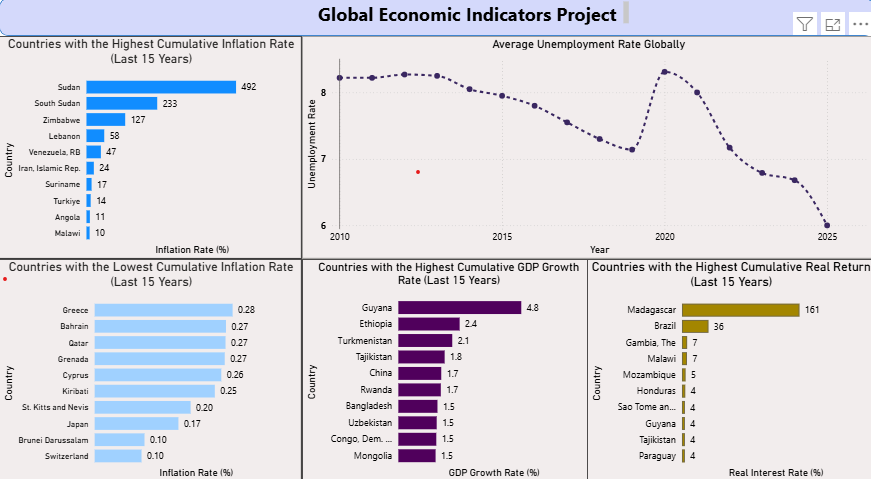

The dashboard page shown, as its layout file describes it:
{"tool":"powerbi","page":{"name":"Dashboard","canvas":[1280,720],"ordinal":0},"visuals":[{"type":"shape","box":[0,11.7,1280.5,55.6],"z":500},{"type":"clusteredBarChart","title":"Countries with the Highest Cumulative Inflation Rate (Last 15 Years)","fields":{"Category":["Q1-1.country_name"],"Y":["Sum(Q1-1.Highest_inflation_Countries)"]},"box":[0,67.3,443.4,326.3],"z":1000},{"type":"textbox","box":[453.7,11.7,472.7,43.9],"z":2000},{"type":"barChart","title":"Countries with the Lowest Cumulative Inflation Rate (Last 15 Years)","fields":{"Category":["Q1-2.country_name"],"Y":["Sum(Q1-2.Lowest_inflation_Countries)"]},"box":[0,393.7,443.4,326.3],"z":3000},{"type":"lineChart","title":"Average Unemployment Rate Globally","fields":{"Category":["Q4-1.year"],"Y":["Sum(Q4-1.Average_Unemployment_Rate_Globally)"]},"box":[443.4,67.3,837.1,326.3],"z":4000},{"type":"clusteredBarChart","title":"Countries with the  Highest Cumulative  GDP Growth Rate (Last 15 Years)","fields":{"Category":["Q2-1.country_name"],"Y":["Sum(Q2-1.Highest_GDP_Growth_Countries)"]},"box":[443.4,393.7,427.3,326.3],"z":5000},{"type":"clusteredBarChart","title":"Countries with the Highest Cumulative Real Return (Last 15 Years)","fields":{"Category":["Q5-1.country_name"],"Y":["Sum(Q5-1.Highest_Cumulative_Real_Return)"]},"box":[860.5,393.7,420,326.3],"z":6000}]}

Visuals, with their boxes on the page's 1280x720 design canvas (x1, y1, x2, y2). These are canvas units, not pixel positions in the 871x479 screenshot, which may show the page scaled, cropped or inside an application window:
shape: (left=0, top=12, right=1280, bottom=67)
"Countries with the Highest Cumulative Inflation Rate (Last 15 Years)" clusteredBarChart: (left=0, top=67, right=443, bottom=394)
textbox: (left=454, top=12, right=926, bottom=56)
"Countries with the Lowest Cumulative Inflation Rate (Last 15 Years)" barChart: (left=0, top=394, right=443, bottom=720)
"Average Unemployment Rate Globally" lineChart: (left=443, top=67, right=1280, bottom=394)
"Countries with the  Highest Cumulative  GDP Growth Rate (Last 15 Years)" clusteredBarChart: (left=443, top=394, right=871, bottom=720)
"Countries with the Highest Cumulative Real Return (Last 15 Years)" clusteredBarChart: (left=860, top=394, right=1280, bottom=720)
